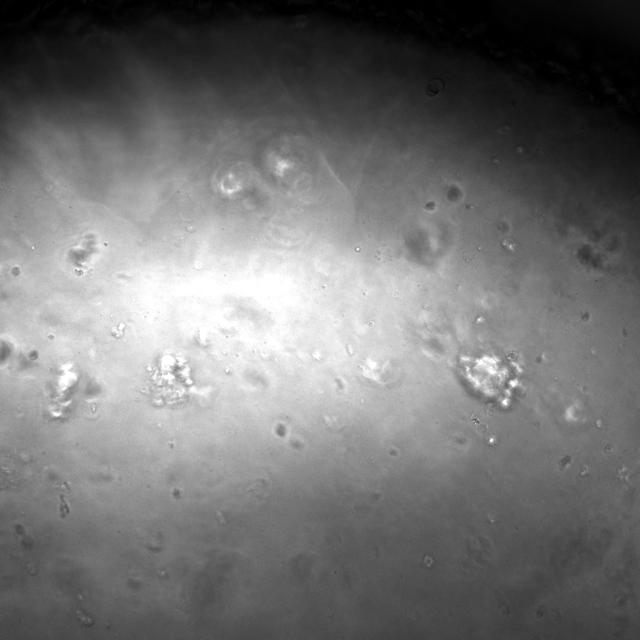organoid: (456, 352, 522, 410), (46, 363, 102, 420), (149, 353, 193, 405), (576, 224, 620, 268), (68, 232, 98, 269), (446, 185, 461, 201), (275, 422, 287, 436), (27, 349, 38, 361), (11, 266, 19, 276), (424, 202, 434, 209)
